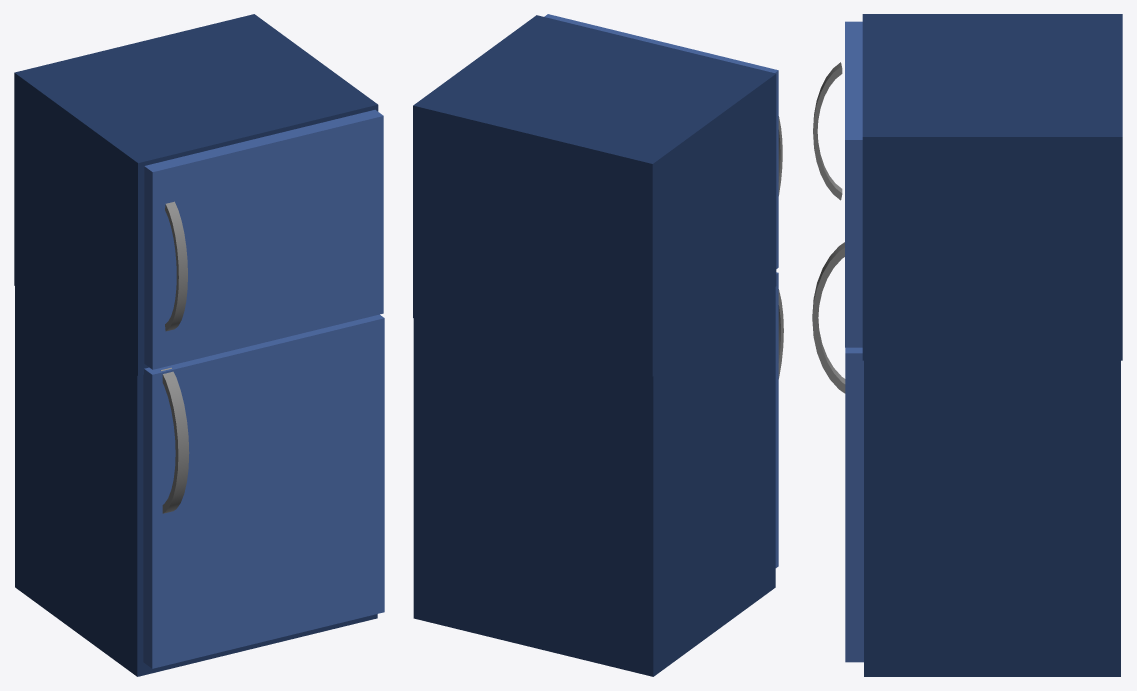
The model's file is fridge.fbx.
The picture shows the model from 3 angles, left to right: view 1: azimuth 30°, elevation 25°; view 2: azimuth 150°, elevation 25°; view 3: azimuth 270°, elevation 25°; orthographic projection. The views are drawn at different scales.
Parts seen in each view (by area): view 1: pCube7, pCube6, pCube8, pCube4, pCube9, pCube10; view 2: pCube4, pCube6, pCube8, pCube7; view 3: pCube6, pCube4, pCube7, pCube8, pCube9, pCube10.
Boxes of the visible parts, x1,y1,x2,y2 form: pCube7: (143,314,384,668); pCube6: (14,14,378,375); pCube8: (144,109,383,369); pCube4: (15,266,377,676); pCube9: (160,367,189,513); pCube10: (165,201,187,331); pCube4: (413,267,775,676); pCube6: (413,15,776,376); pCube8: (544,14,778,268); pCube7: (775,272,778,567); pCube6: (862,14,1122,360); pCube4: (864,339,1120,676); pCube7: (845,347,863,662); pCube8: (845,21,862,347); pCube9: (812,242,845,393); pCube10: (813,62,842,200).
Bounding box in the file's own units: 3.04 × 6.22 × 3.24.
